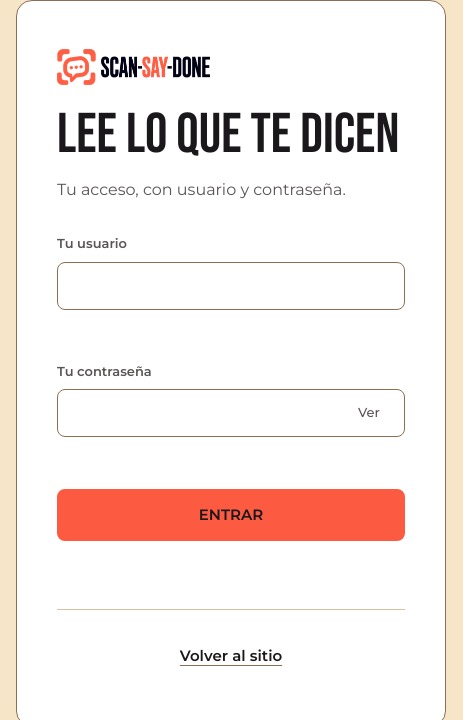
it: LoginCard › 5xx → «No se pudo consultar el servicio. Intenta de nuevo.»
Type "cosmos_accesorios" into the field labelled "Tu usuario" at (231, 286), box [57,262,405,310]
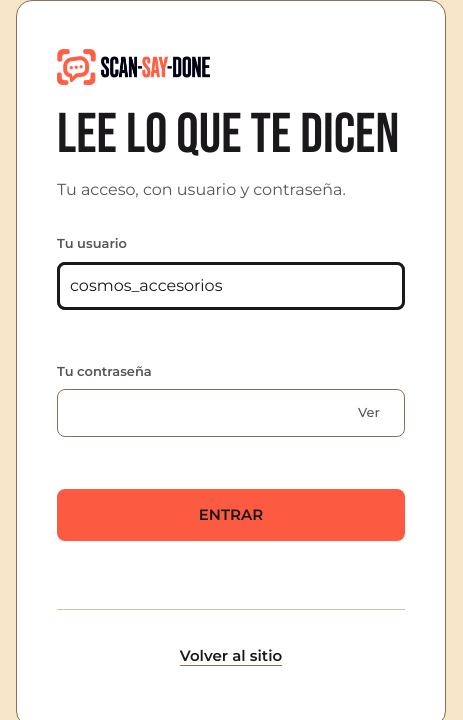
Type "secreta" into the password field labelled "Tu contraseña" at (231, 413), box [57,389,405,437]
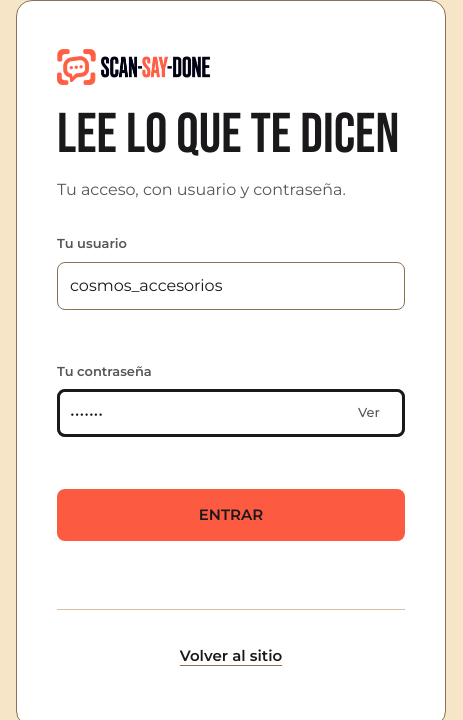
Click the button "ENTRAR" at (231, 515), box [57,489,405,541]
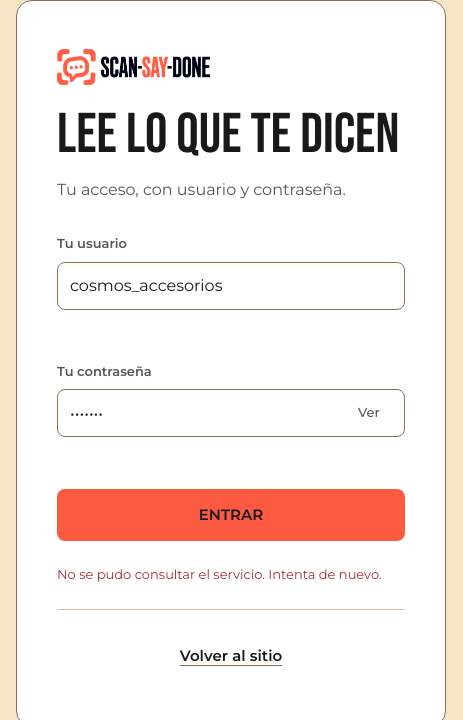
Expected: the text "No se pudo consultar el servicio. Intenta de nuevo." is shown, [57,565,405,585]
